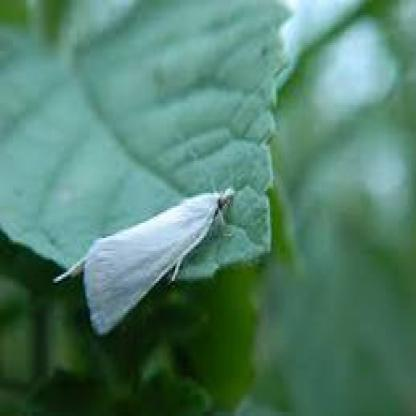stem-borer: (51, 185, 237, 340)
